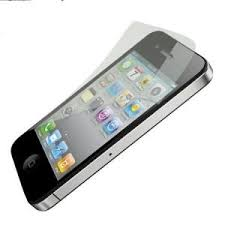iphone: (10, 27, 213, 219)
iphone4: (11, 27, 214, 219)
